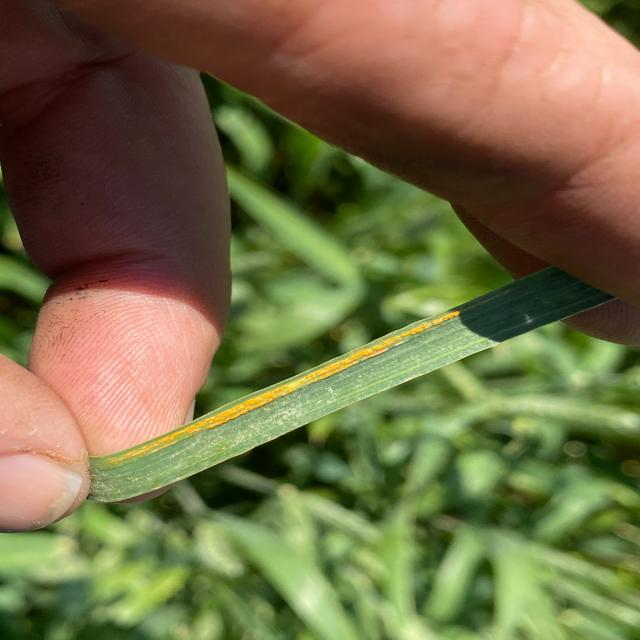leaf_blight: (90, 268, 611, 502)
